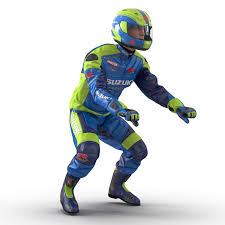helmet: (107, 6, 157, 57)
